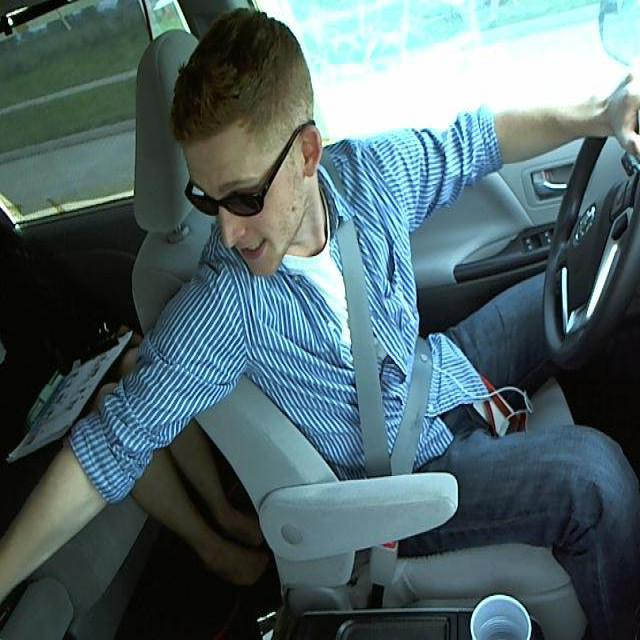seatbelt: (322, 202, 438, 474)
